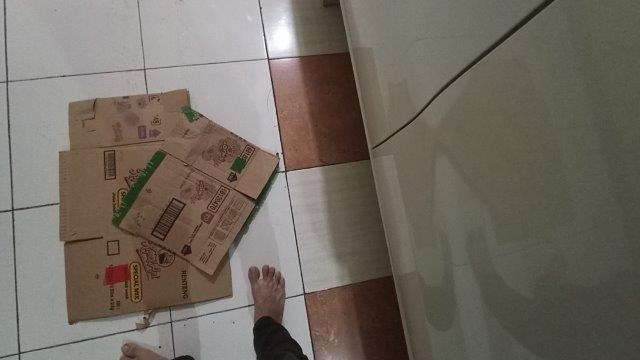kardus: (61, 90, 279, 324)
